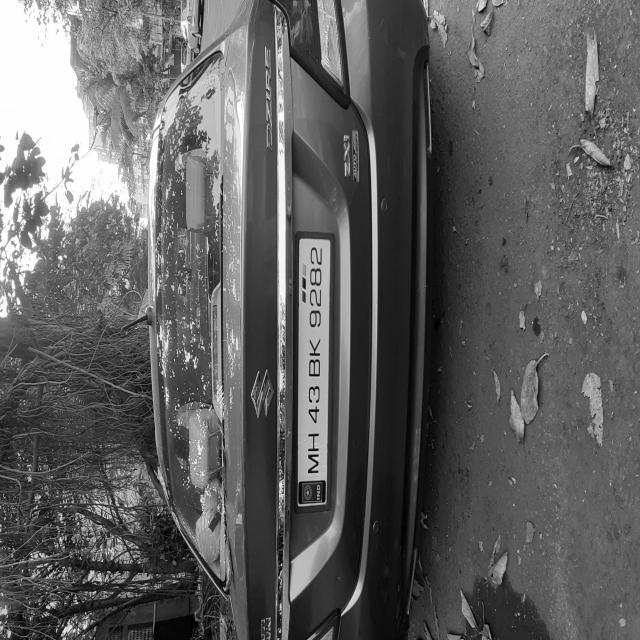car: (2, 306, 311, 640)
license-plate: (64, 608, 196, 640)
